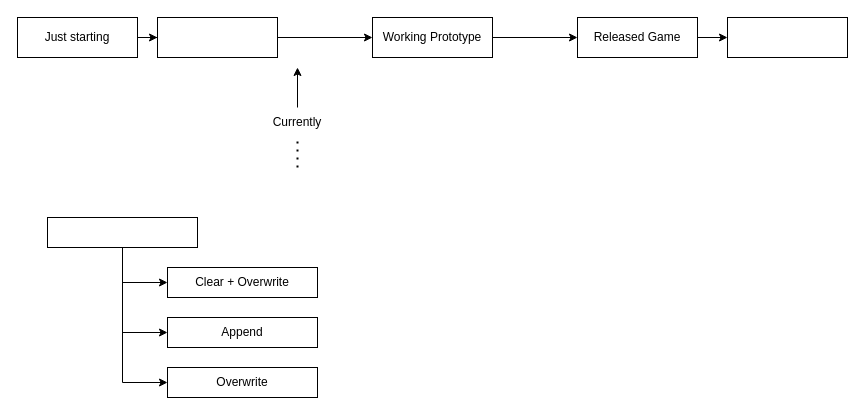
The diagram is 865 pixels wide and 415 high, and some of its shapes have lost their labels. Each missing label, with the centre of its shape:
"Post-Release" belongs at pixel 787 37.
"Serialization Types" belongs at pixel 122 232.
"UI + Some Features" belongs at pixel 217 37.
